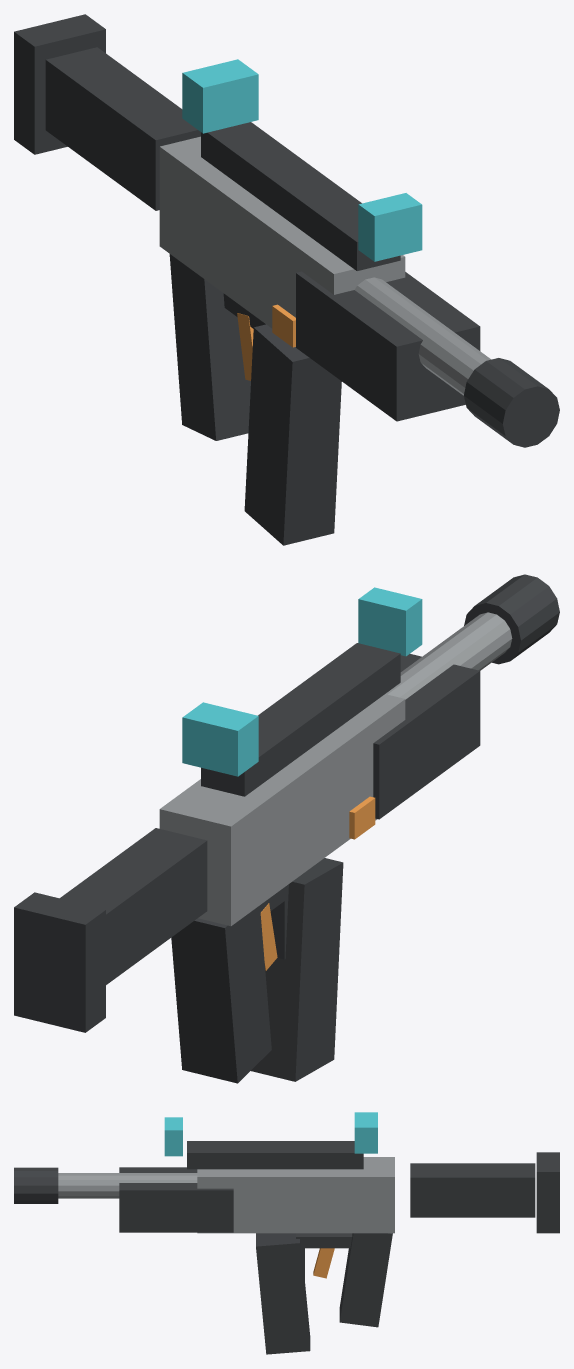
Rendered from wpn_proto_smg_01.glb.
3 views of the same model, one above another, from view 1: azimuth 30°, elevation 25°; view 2: azimuth 150°, elevation 25°; view 3: azimuth 270°, elevation 25° (orthographic). The views are drawn at different scales.
Visible parts, largest first — view 1: geo_receiver, geo_magazine, geo_front_handguard, geo_stock, geo_upper_rail, geo_grip, geo_stock_pad, geo_muzzle, geo_barrel, geo_rear_sight, geo_front_sight, geo_mag_release_mark (+1 smaller); view 2: geo_receiver, geo_grip, geo_magazine, geo_stock, geo_stock_pad, geo_upper_rail, geo_front_handguard, geo_rear_sight, geo_barrel, geo_muzzle, geo_front_sight, geo_mag_release_mark (+2 smaller); view 3: geo_receiver, geo_stock, geo_front_handguard, geo_magazine, geo_upper_rail, geo_grip, geo_barrel, geo_stock_pad, geo_muzzle, geo_rear_sight, geo_trigger_guard_top, geo_front_sight (+1 smaller).
Part boxes in pixels (left/top/right/bottom): geo_receiver: left=159, top=136, right=405, bottom=328; geo_magazine: left=244, top=324, right=341, bottom=545; geo_front_handguard: left=296, top=271, right=480, bottom=421; geo_stock: left=45, top=47, right=200, bottom=210; geo_upper_rail: left=201, top=122, right=400, bottom=270; geo_grip: left=169, top=254, right=250, bottom=440; geo_stock_pad: left=14, top=14, right=105, bottom=154; geo_muzzle: left=464, top=358, right=559, bottom=447; geo_barrel: left=354, top=277, right=490, bottom=395; geo_rear_sight: left=182, top=59, right=258, bottom=133; geo_front_sight: left=358, top=193, right=422, bottom=261; geo_mag_release_mark: left=272, top=304, right=295, bottom=347; geo_receiver: left=159, top=694, right=405, bottom=926; geo_grip: left=171, top=905, right=271, bottom=1083; geo_magazine: left=251, top=858, right=343, bottom=1081; geo_stock: left=60, top=828, right=207, bottom=984; geo_stock_pad: left=14, top=892, right=105, bottom=1032; geo_upper_rail: left=201, top=643, right=400, bottom=796; geo_front_handguard: left=373, top=654, right=480, bottom=819; geo_rear_sight: left=182, top=702, right=258, bottom=776; geo_barrel: left=385, top=612, right=512, bottom=699; geo_muzzle: left=464, top=574, right=559, bottom=664; geo_front_sight: left=358, top=587, right=422, bottom=656; geo_mag_release_mark: left=349, top=796, right=375, bottom=839; geo_receiver: left=197, top=1157, right=394, bottom=1233; geo_stock: left=410, top=1163, right=535, bottom=1217; geo_front_handguard: left=119, top=1167, right=233, bottom=1232; geo_magazine: left=256, top=1233, right=310, bottom=1354; geo_upper_rail: left=187, top=1141, right=363, bottom=1169; geo_grip: left=339, top=1233, right=392, bottom=1327; geo_barrel: left=58, top=1173, right=197, bottom=1198; geo_stock_pad: left=536, top=1152, right=559, bottom=1233; geo_muzzle: left=14, top=1167, right=58, bottom=1203; geo_rear_sight: left=354, top=1112, right=377, bottom=1153; geo_trigger_guard_top: left=296, top=1233, right=352, bottom=1248; geo_front_sight: left=164, top=1117, right=182, bottom=1156.
Size of the model in its own units: 0.105 by 0.4828 by 1.05.
